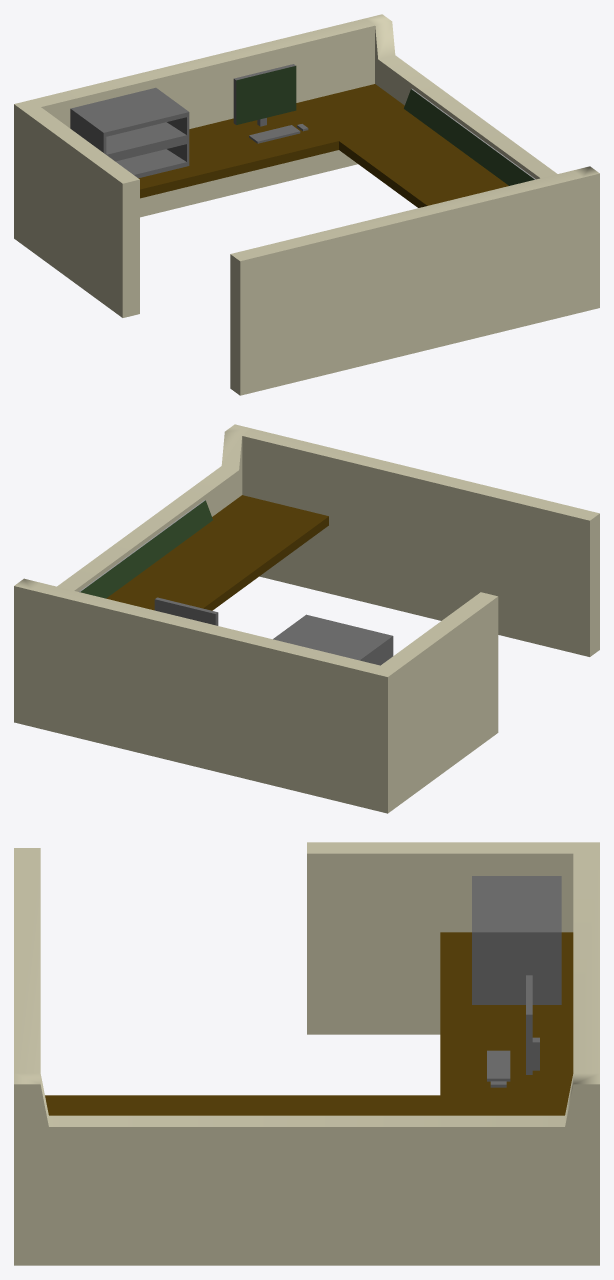
The model's file is Office SetUp Emptys.fbx.
3 renders of one model, top to bottom at view 1: azimuth 30°, elevation 25°; view 2: azimuth 150°, elevation 25°; view 3: azimuth 270°, elevation 25°, orthographic. The views are drawn at different scales.
Parts seen in each view (by area): view 1: Cubicle, Desk, FileCabnet1, Monitor, SoulCounter, FileCabnet, Keybord; view 2: Cubicle, Desk, FileCabnet1, SoulCounter, Monitor; view 3: Cubicle, Desk, FileCabnet1, FileCabnet, Monitor, Keybord.
Boxes of the visible parts, x1=… form: Cubicle: x1=14, y1=14, x2=599, y2=395; Desk: x1=138, y1=84, x2=508, y2=207; FileCabnet1: x1=70, y1=87, x2=189, y2=157; Monitor: x1=233, y1=64, x2=296, y2=126; SoulCounter: x1=404, y1=88, x2=535, y2=185; FileCabnet: x1=111, y1=139, x2=189, y2=178; Keybord: x1=249, y1=125, x2=300, y2=143; Cubicle: x1=14, y1=424, x2=599, y2=813; Desk: x1=106, y1=495, x2=328, y2=610; FileCabnet1: x1=273, y1=614, x2=393, y2=665; SoulCounter: x1=79, y1=500, x2=212, y2=598; Monitor: x1=154, y1=597, x2=218, y2=625; Cubicle: x1=14, y1=842, x2=599, y2=1265; Desk: x1=45, y1=932, x2=573, y2=1115; FileCabnet1: x1=472, y1=876, x2=561, y2=968; FileCabnet: x1=472, y1=968, x2=561, y2=1004; Monitor: x1=526, y1=975, x2=539, y2=1074; Keybord: x1=487, y1=1050, x2=510, y2=1081.
Bounding box in the file's own units: 4.3 × 1.5 × 4.4.
